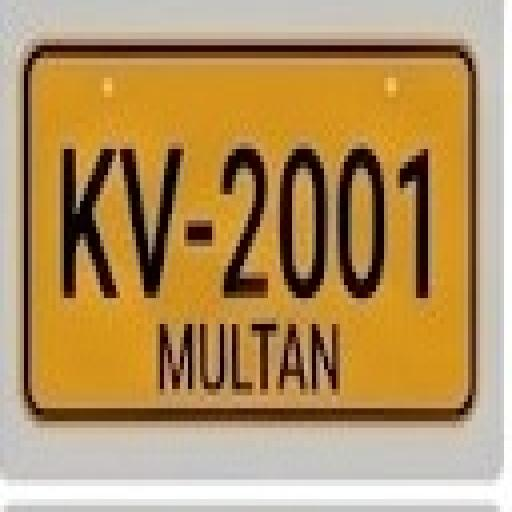0: (333, 141, 384, 299), (278, 144, 326, 303)
1: (389, 144, 439, 304)
2: (219, 154, 275, 299)
K: (59, 142, 115, 302)
V: (117, 145, 186, 299)
